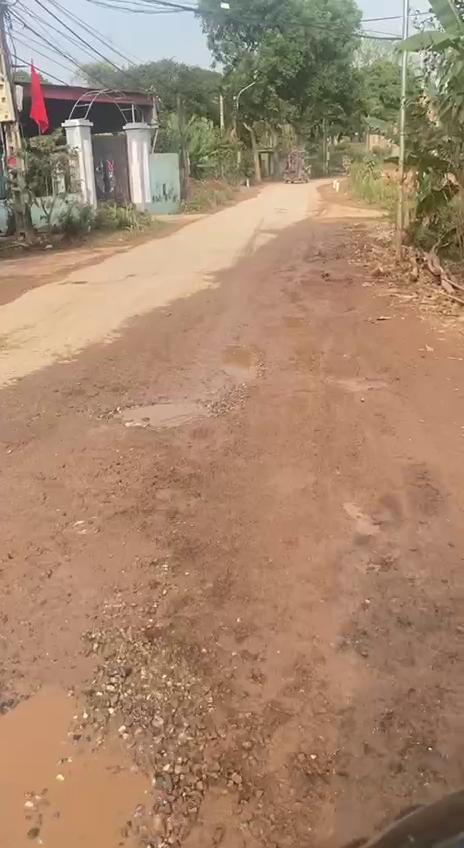pothole: (0, 658, 170, 848), (103, 398, 214, 430), (219, 342, 261, 388)
